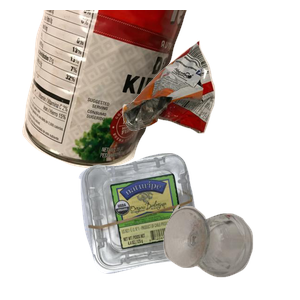glass: (161, 202, 300, 300)
metal: (20, 10, 199, 172)
plastic: (76, 151, 270, 300)
trash: (120, 38, 300, 164)
